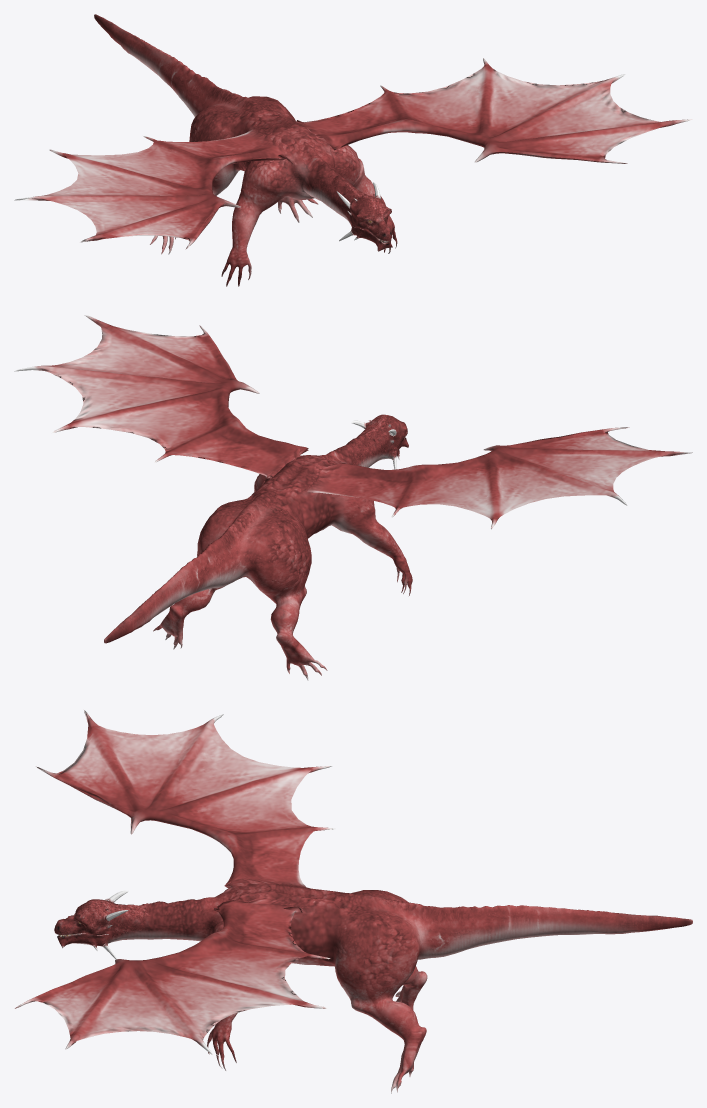
File: dragon.obj
The picture shows the model from 3 angles, top to bottom: view 1: azimuth 30°, elevation 25°; view 2: azimuth 150°, elevation 25°; view 3: azimuth 270°, elevation 25°; orthographic projection. The views are drawn at different scales.
Parts seen in each view (by area): view 1: 8815bab204424eec89b549721f3b99c2; view 2: 8815bab204424eec89b549721f3b99c2; view 3: 8815bab204424eec89b549721f3b99c2.
Boxes of the visible parts, left/top/right/bottom form: 8815bab204424eec89b549721f3b99c2: left=14, top=14, right=692, bottom=286; 8815bab204424eec89b549721f3b99c2: left=14, top=315, right=692, bottom=680; 8815bab204424eec89b549721f3b99c2: left=15, top=710, right=692, bottom=1093.
Size of the model in its own units: 2.02 by 0.5601 by 1.8.
